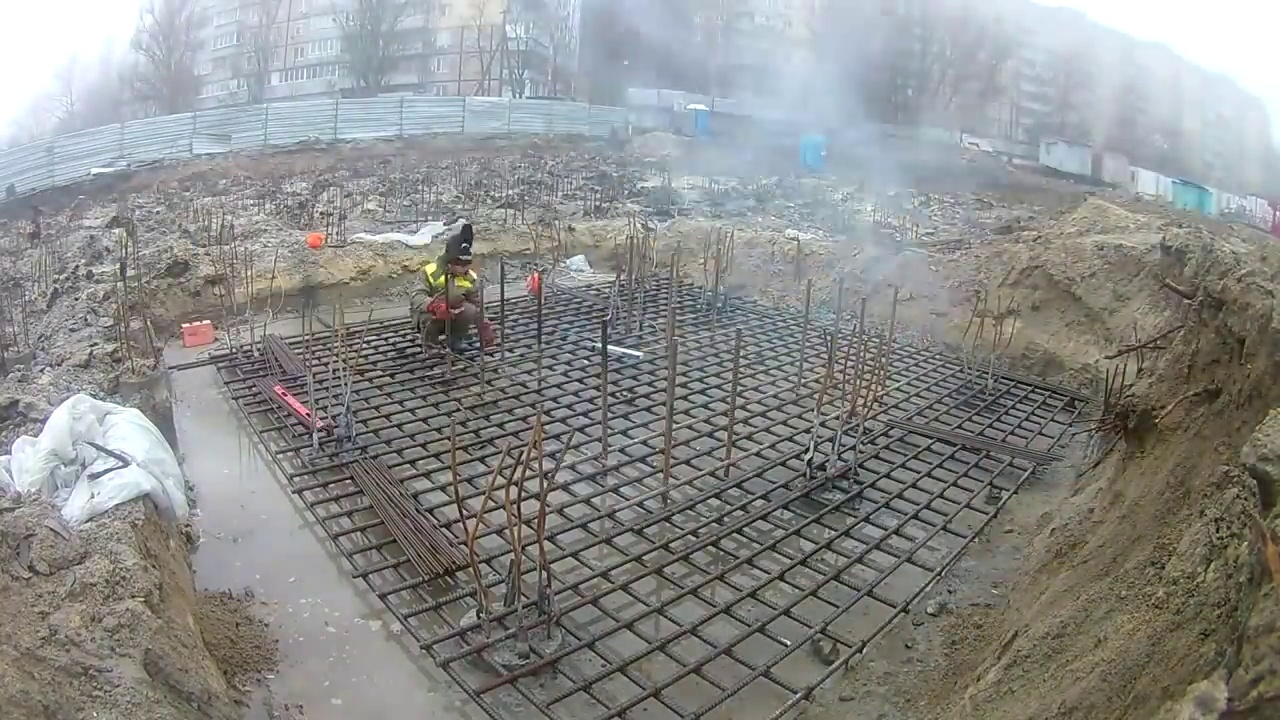helmet: (526, 271, 539, 299), (305, 232, 325, 250)
helmet-off: (444, 225, 474, 277)
person: (410, 225, 482, 360)
